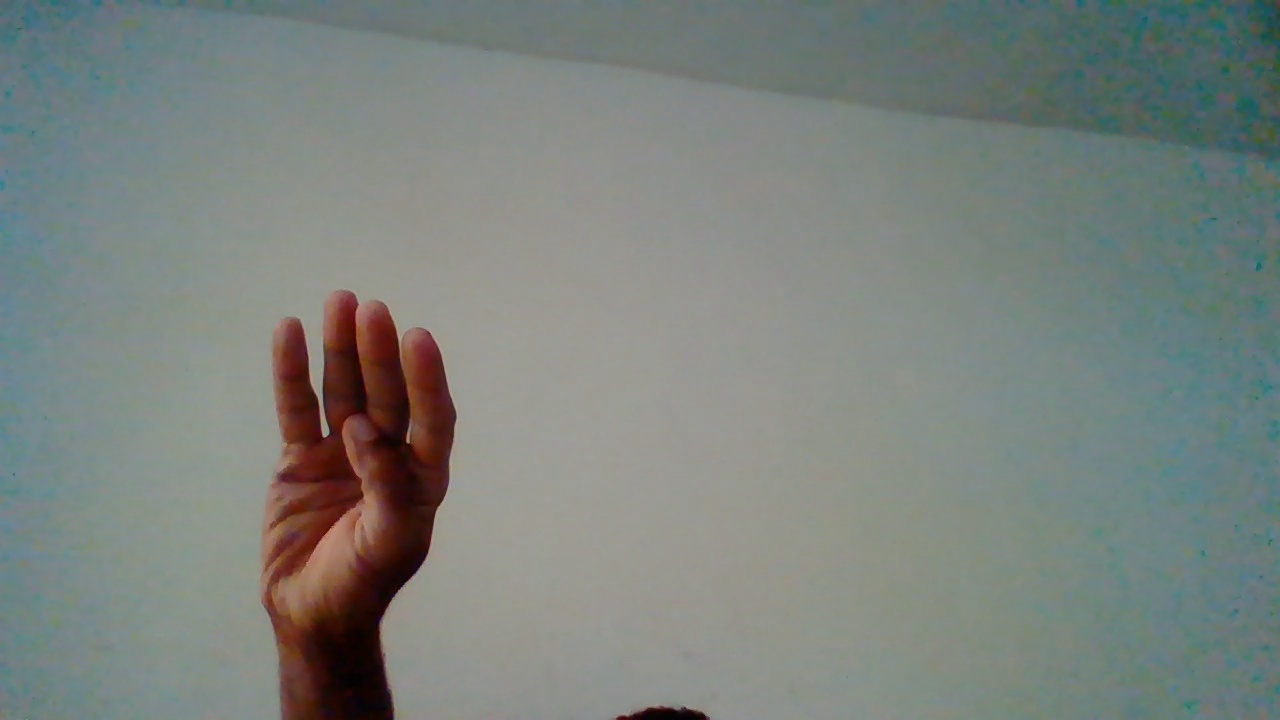me: (262, 286, 458, 717)
